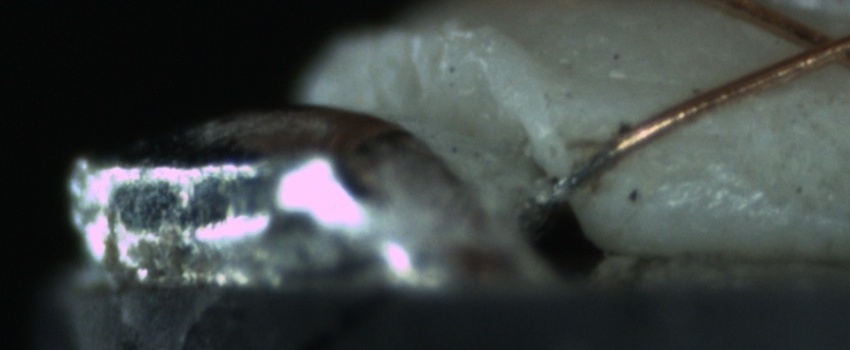CL: (775, 15, 850, 77)
TS: (536, 144, 616, 208)
